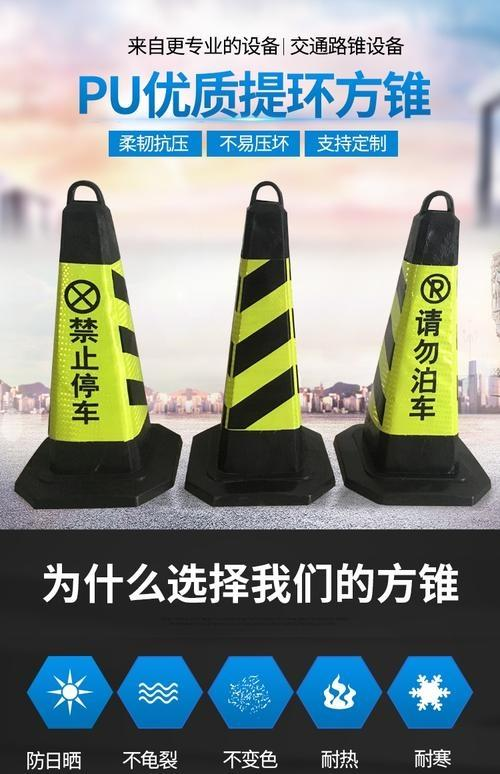cone_barrel: (27, 189, 173, 485), (194, 191, 330, 500), (349, 196, 480, 488)
